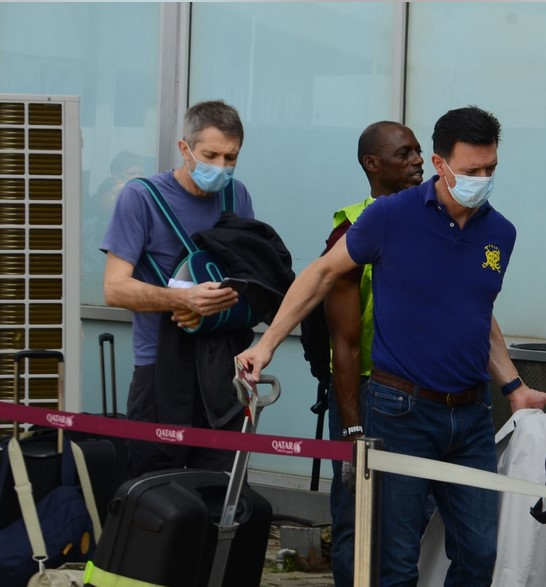face_no_mask: (354, 119, 425, 204)
face_with_mask: (432, 108, 500, 214), (178, 102, 244, 201)
